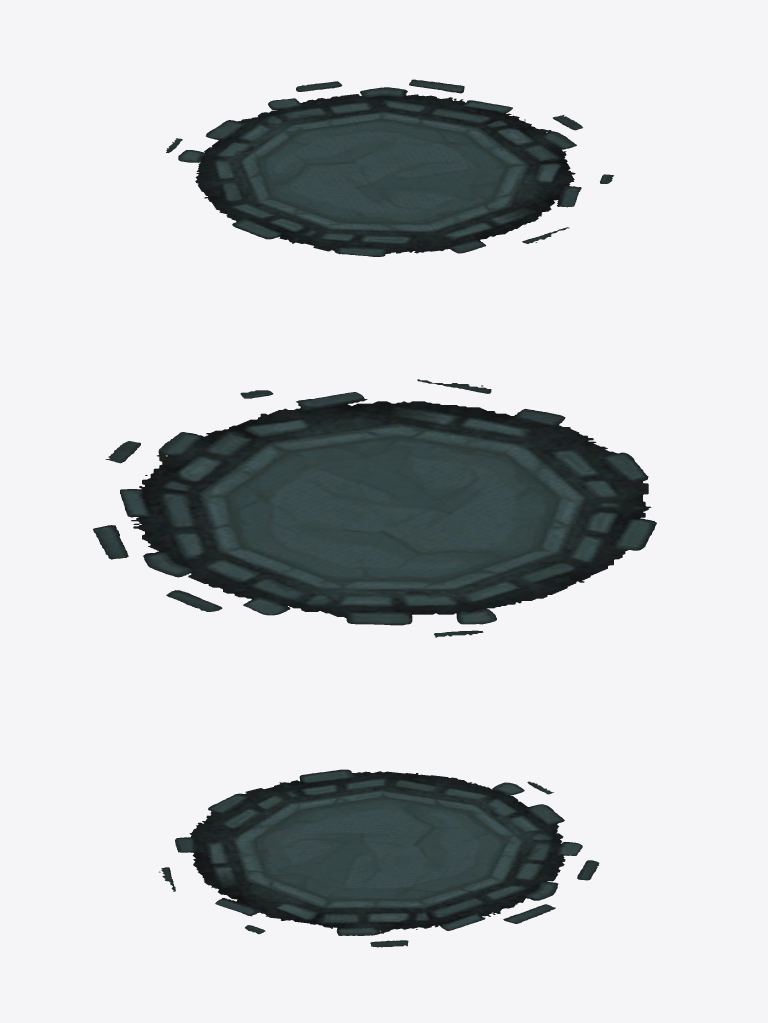
File: shrine_base.fbx
3 renders of one model, top to bottom at view 1: azimuth 30°, elevation 25°; view 2: azimuth 150°, elevation 25°; view 3: azimuth 270°, elevation 25°, orthographic. The views are drawn at different scales.
Parts seen in each view (by area): view 1: obj0.038; view 2: obj0.038; view 3: obj0.038.
Part boxes in pixels (x1,y1,x2,y2): obj0.038: [166, 79, 613, 256]; obj0.038: [93, 379, 656, 637]; obj0.038: [159, 769, 599, 947].
Bounding box in the file's own units: 6.49 × 1.06e-06 × 6.49.
